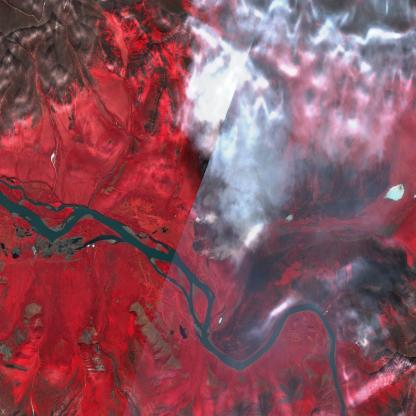fire: (186, 92, 247, 270), (331, 322, 372, 360)
